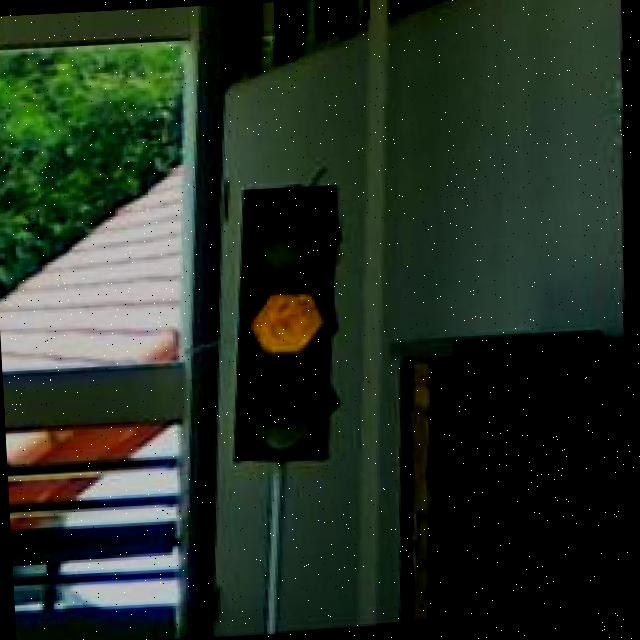yellow_light: (222, 184, 360, 466)
